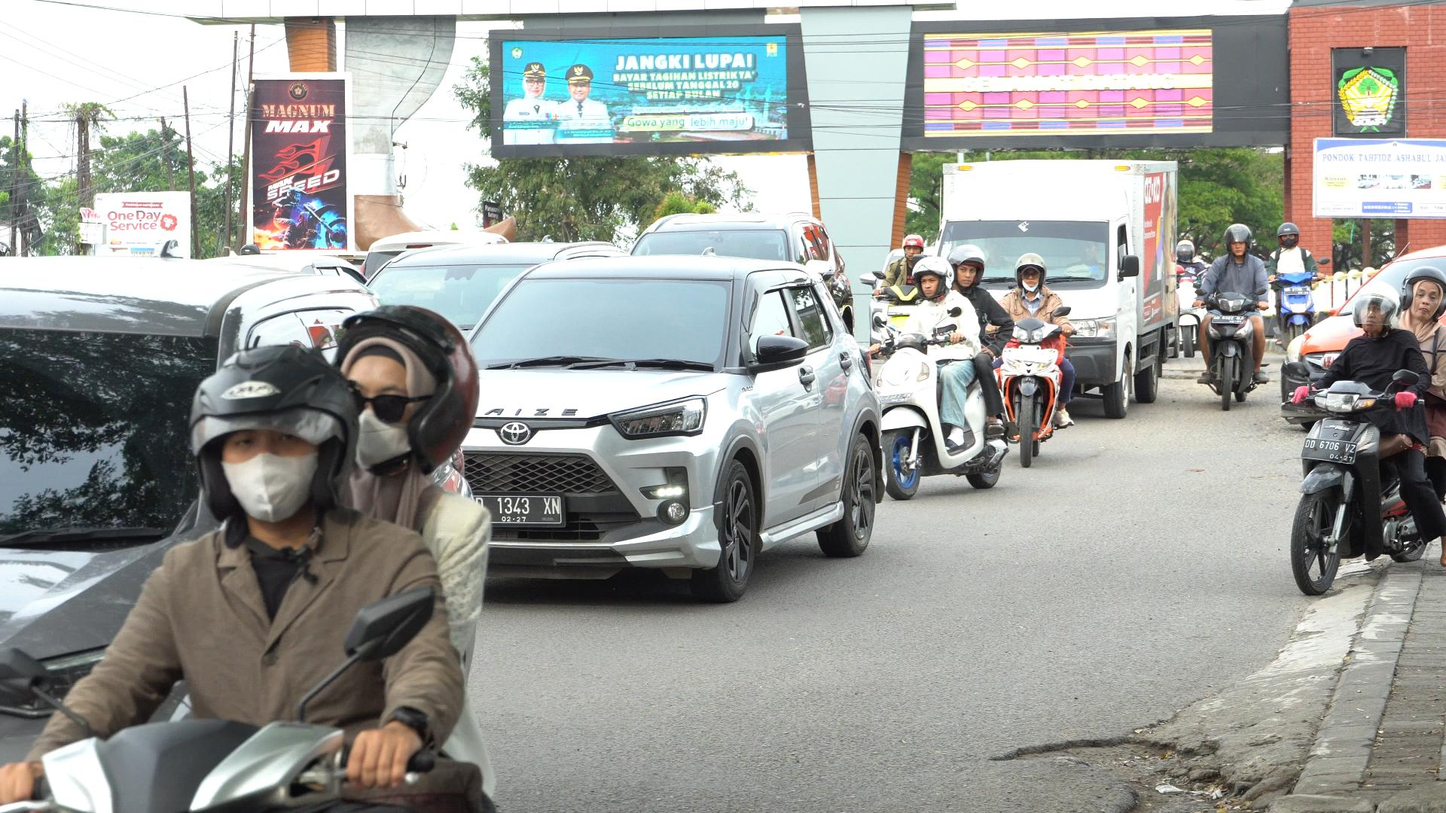number-plate: (1298, 435, 1354, 468)
